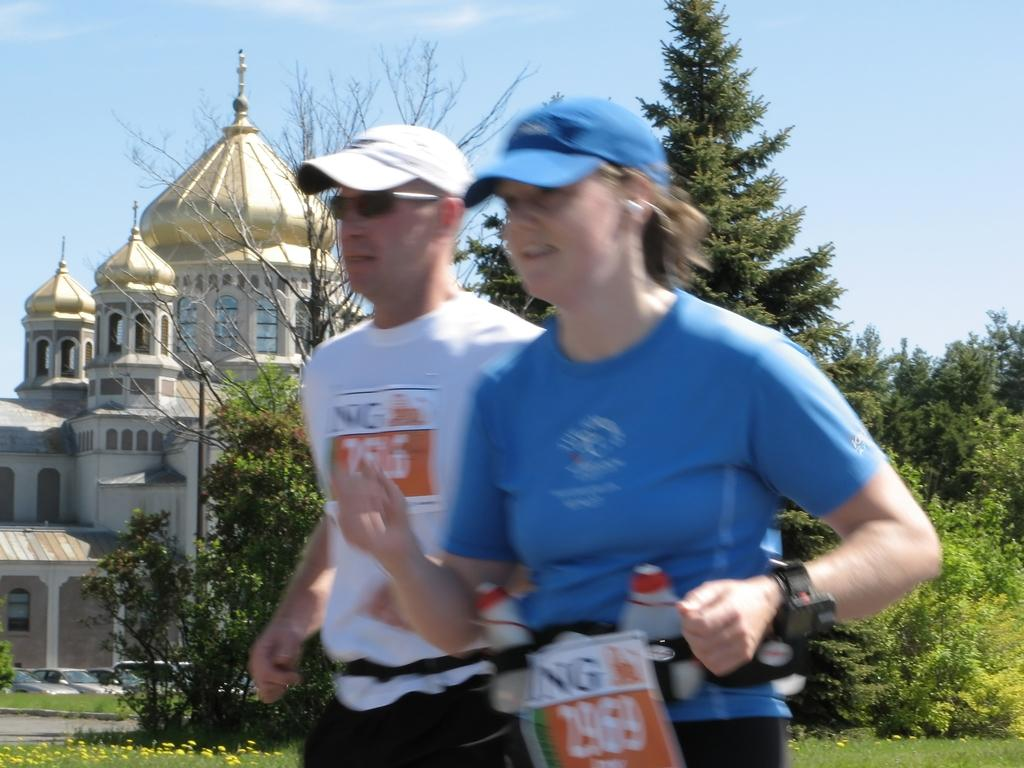Hat: (465, 93, 669, 207), (294, 122, 474, 192)
